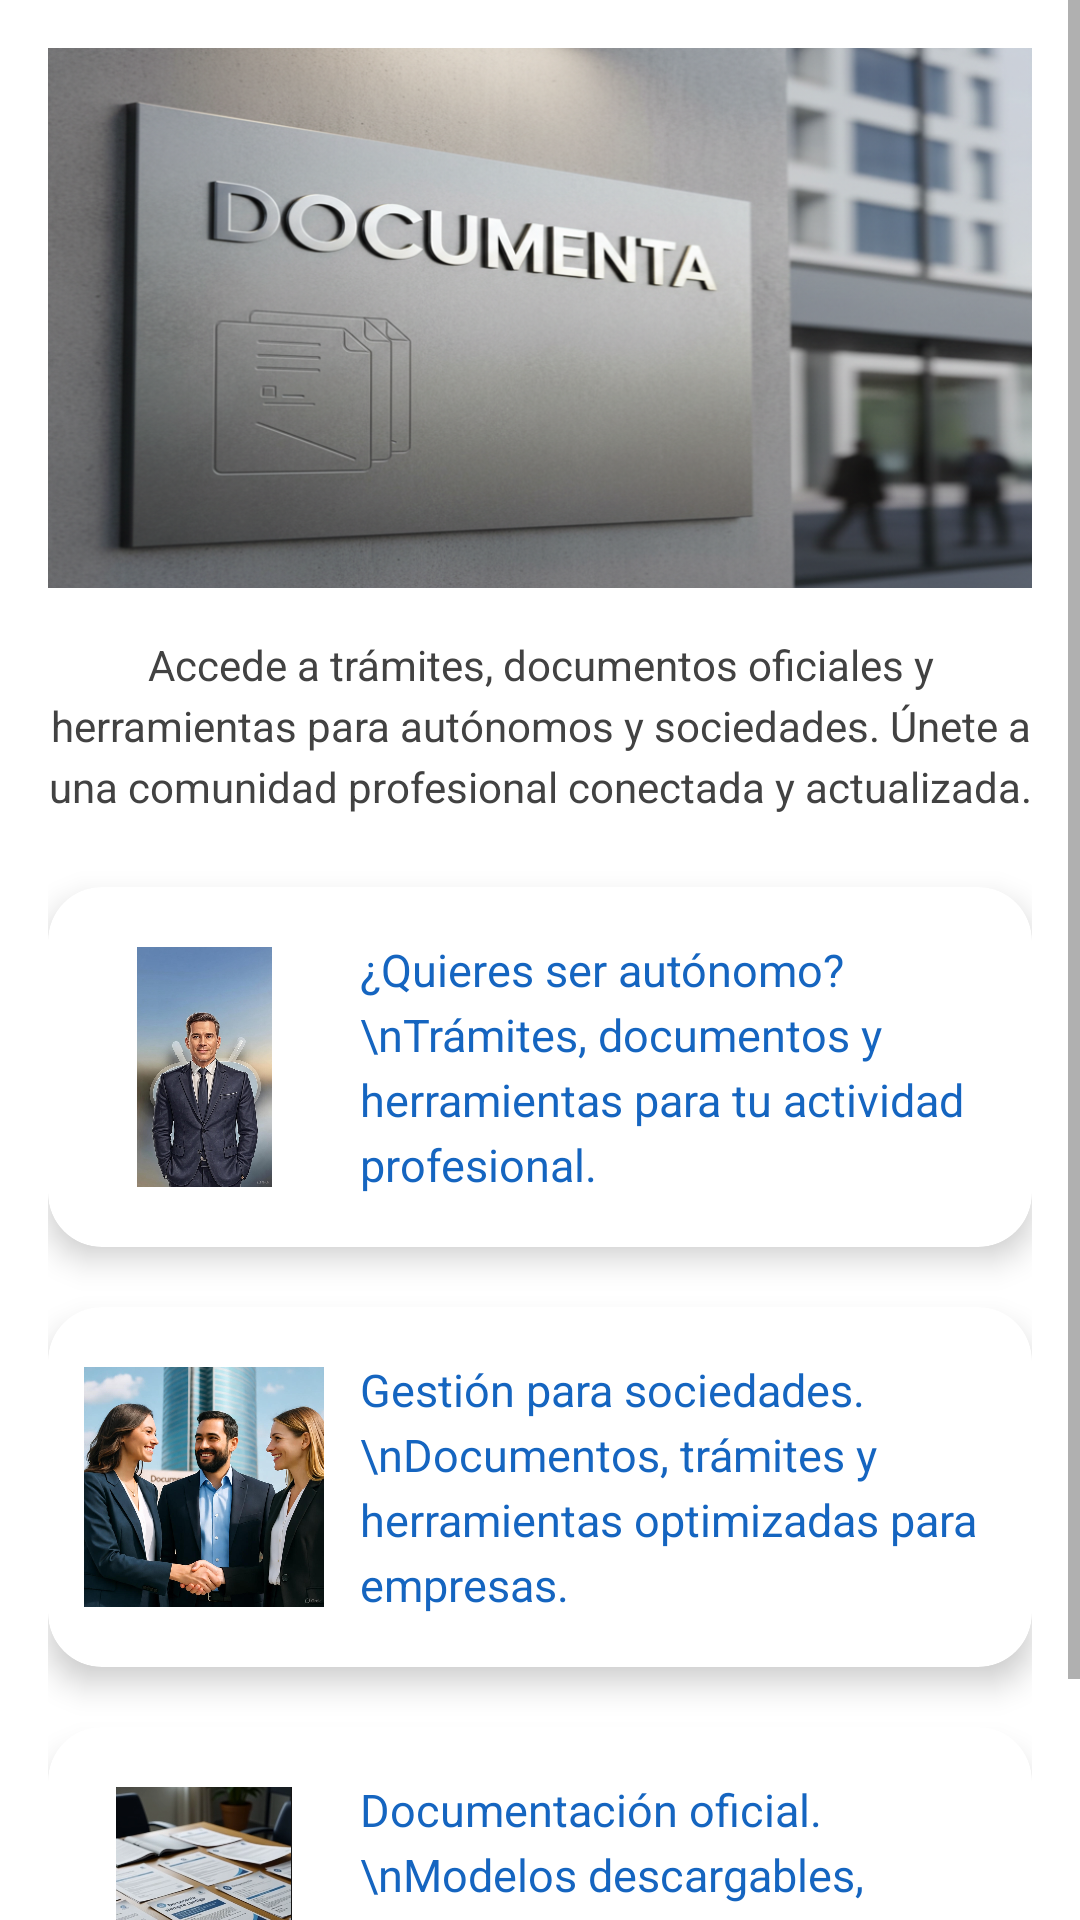

Icon click points for this 1080x1920 phone screenshot, format (x,y):
autonomo: (204,1067)
